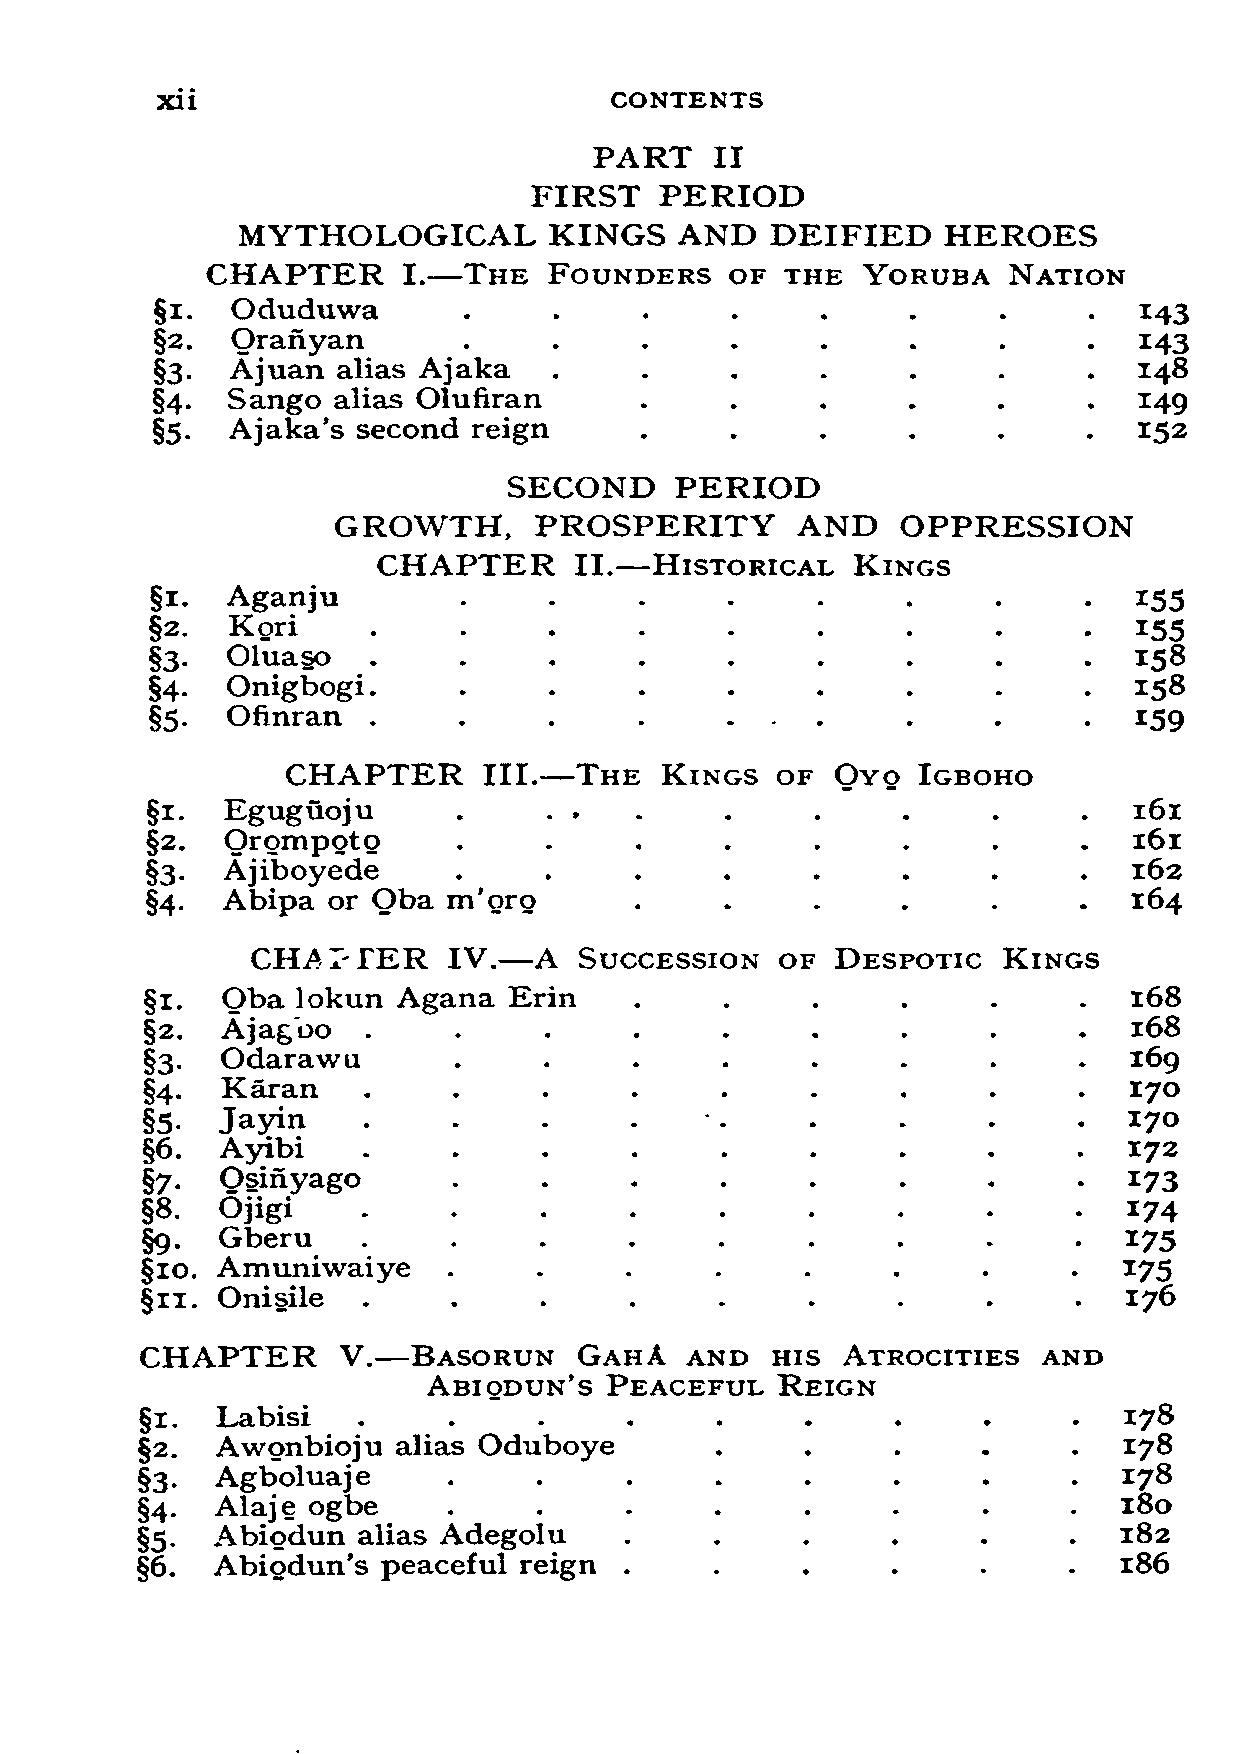TOC_chapter: (196, 211, 1127, 287), (325, 463, 1133, 548), (134, 1341, 1107, 1402), (246, 939, 1104, 977), (285, 756, 1036, 797), (513, 138, 811, 209), (373, 553, 958, 581), (134, 1432, 619, 1465), (140, 978, 581, 1015), (148, 415, 557, 451), (132, 1551, 597, 1582), (140, 884, 535, 917), (136, 1520, 568, 1549), (148, 357, 518, 386), (148, 386, 548, 411), (136, 794, 381, 829), (138, 1253, 413, 1282), (145, 574, 341, 612), (133, 1465, 374, 1495), (148, 290, 385, 319), (144, 672, 366, 703), (149, 325, 368, 356), (136, 828, 386, 855), (142, 1165, 365, 1194), (140, 858, 380, 884), (132, 1496, 378, 1522), (140, 1045, 362, 1072), (144, 705, 344, 734), (148, 641, 331, 672), (136, 1286, 325, 1315), (140, 1074, 318, 1104), (140, 1015, 329, 1043), (140, 1224, 318, 1252), (136, 1404, 315, 1431), (140, 1107, 309, 1135), (140, 1134, 306, 1161), (140, 1194, 293, 1223), (145, 615, 307, 640)
TOC_pagenumber: (1131, 294, 1190, 327), (1131, 705, 1188, 737), (1129, 851, 1180, 884), (1129, 644, 1189, 672), (1123, 1075, 1180, 1104), (1125, 980, 1182, 1008), (1123, 1104, 1181, 1133), (1123, 1166, 1180, 1194), (1133, 586, 1188, 615), (1123, 1196, 1178, 1224), (1137, 357, 1189, 386), (1129, 888, 1182, 917), (1123, 1286, 1180, 1312), (1118, 1547, 1172, 1576), (1127, 1044, 1178, 1074), (1121, 1257, 1176, 1284), (1123, 1401, 1176, 1429), (1119, 1433, 1172, 1461), (1133, 331, 1193, 356), (1123, 1227, 1177, 1253), (1129, 675, 1185, 701), (1127, 1134, 1178, 1162), (1117, 1494, 1176, 1518), (1118, 1520, 1170, 1547), (1137, 388, 1188, 415), (1137, 416, 1188, 443), (1129, 824, 1180, 851), (1118, 1464, 1169, 1491), (1127, 1016, 1182, 1040), (1133, 615, 1184, 640), (1129, 796, 1180, 821)
chapter: (605, 86, 764, 111)
